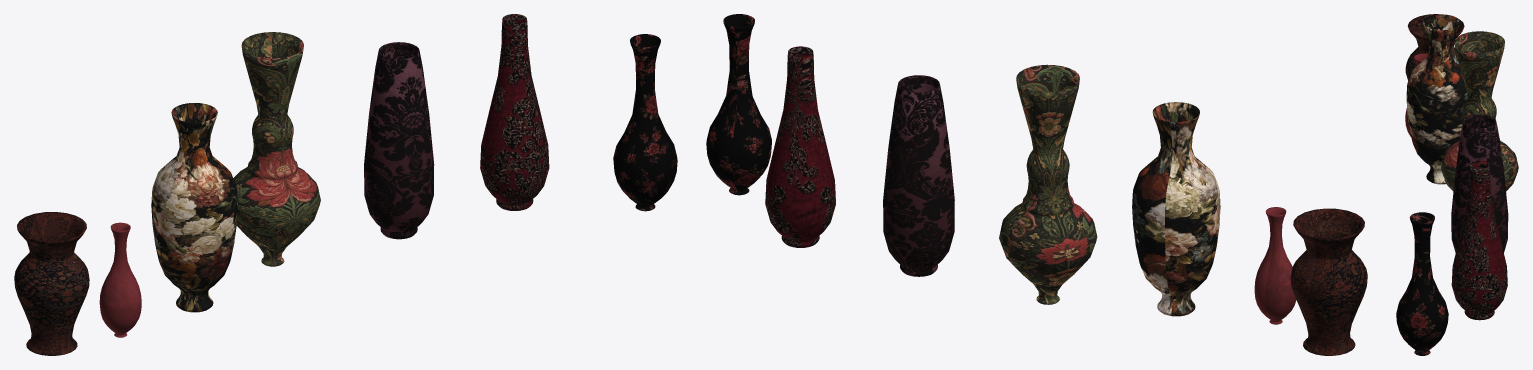
File: Vase.glb
3 views of the same model, side by side, from view 1: azimuth 30°, elevation 25°; view 2: azimuth 150°, elevation 25°; view 3: azimuth 270°, elevation 25° (orthographic). The views are drawn at different scales.
Visible parts, largest first — view 1: Vase3, Vase4, Vase5, Vase6, Vase1, Vase7, Vase2; view 2: Vase4, Vase3, Vase5, Vase6, Vase1, Vase7, Vase2; view 3: Vase3, Vase6, Vase4, Vase7, Vase5, Vase1, Vase2.
Boxes of the visible parts, bbox=[...] form: Vase3: bbox=[151, 103, 237, 312]; Vase4: bbox=[233, 32, 320, 266]; Vase5: bbox=[364, 42, 434, 239]; Vase6: bbox=[480, 14, 549, 210]; Vase1: bbox=[14, 212, 89, 355]; Vase7: bbox=[613, 34, 677, 211]; Vase2: bbox=[99, 222, 141, 337]; Vase4: bbox=[999, 64, 1097, 304]; Vase3: bbox=[1132, 102, 1220, 316]; Vase5: bbox=[883, 75, 954, 276]; Vase6: bbox=[765, 46, 835, 247]; Vase1: bbox=[1290, 208, 1367, 355]; Vase7: bbox=[706, 14, 771, 195]; Vase2: bbox=[1254, 207, 1296, 324]; Vase3: bbox=[1406, 14, 1467, 184]; Vase6: bbox=[1451, 160, 1507, 320]; Vase4: bbox=[1441, 31, 1518, 191]; Vase7: bbox=[1396, 212, 1448, 355]; Vase5: bbox=[1451, 114, 1508, 252]; Vase1: bbox=[1405, 14, 1464, 80]; Vase2: bbox=[1405, 53, 1427, 136].
Size of the model in its own units: 4.92 by 1.61 by 0.9975.
1 material, 1 textured.
